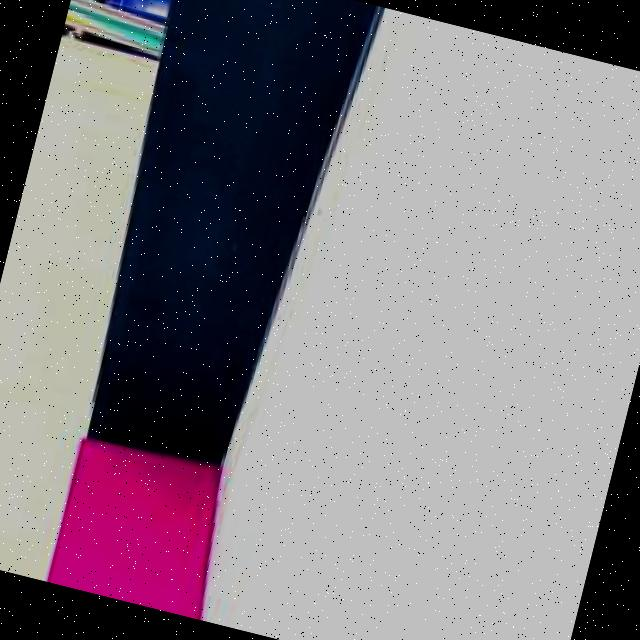xparking: (52, 438, 220, 616)
